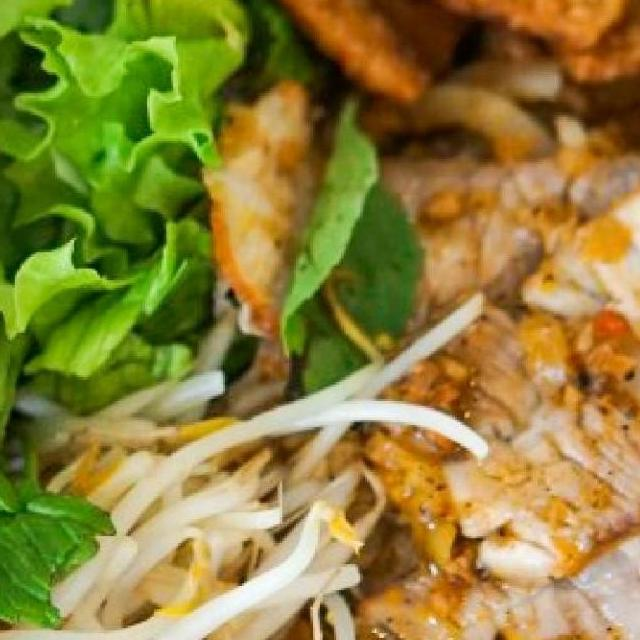banh da: (210, 0, 502, 117)
mi quang: (0, 0, 640, 640)
thit heo: (192, 69, 640, 370), (383, 161, 640, 601), (346, 375, 640, 640)
